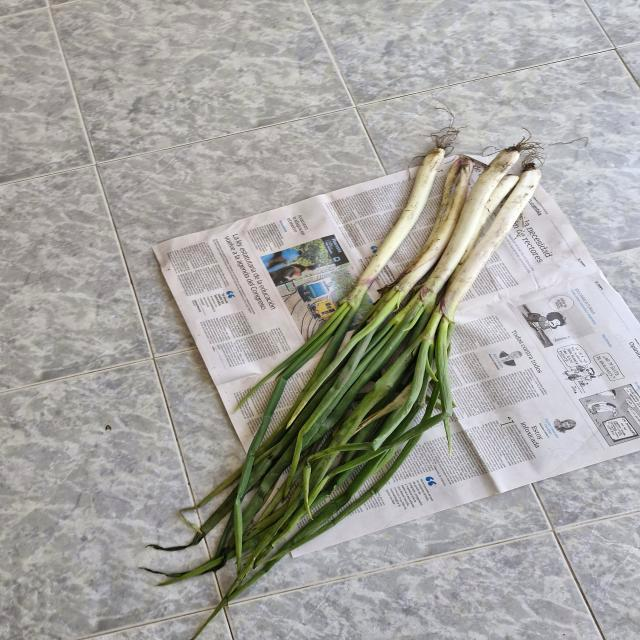green_onion: (249, 133, 551, 571), (208, 132, 450, 547)
